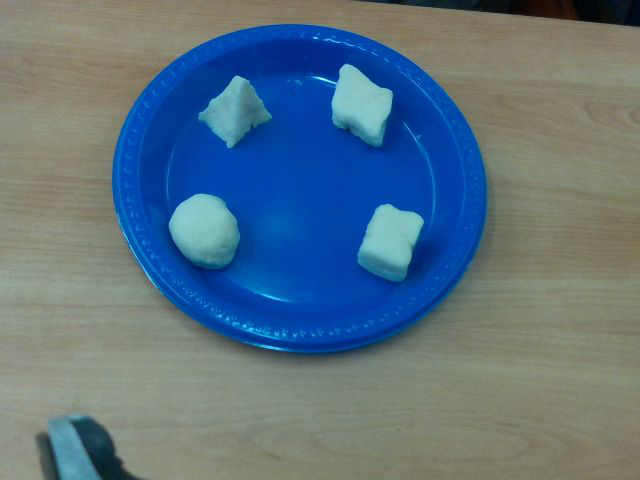mashed_potato: (168, 193, 241, 267), (198, 76, 272, 146), (358, 204, 423, 282), (332, 65, 393, 147)
